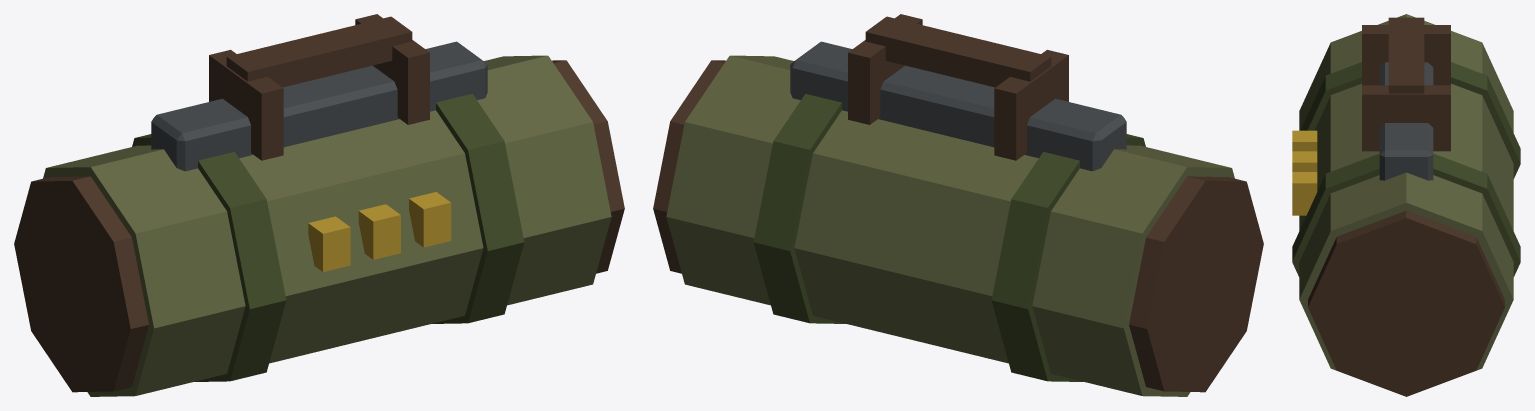
File: item_armor_kit_mk3.glb
The picture shows the model from 3 angles, left to right: view 1: azimuth 30°, elevation 25°; view 2: azimuth 150°, elevation 25°; view 3: azimuth 270°, elevation 25°; orthographic projection. The views are drawn at different scales.
Parts seen in each view (by area): view 1: armor_kit; view 2: armor_kit; view 3: armor_kit.
Boxes of the visible parts, left/top/right/bottom form: armor_kit: left=14, top=14, right=624, bottom=396; armor_kit: left=653, top=14, right=1263, bottom=396; armor_kit: left=1292, top=14, right=1520, bottom=396.
Bounding box in the file's own units: 0.54 × 0.318 × 0.256.
